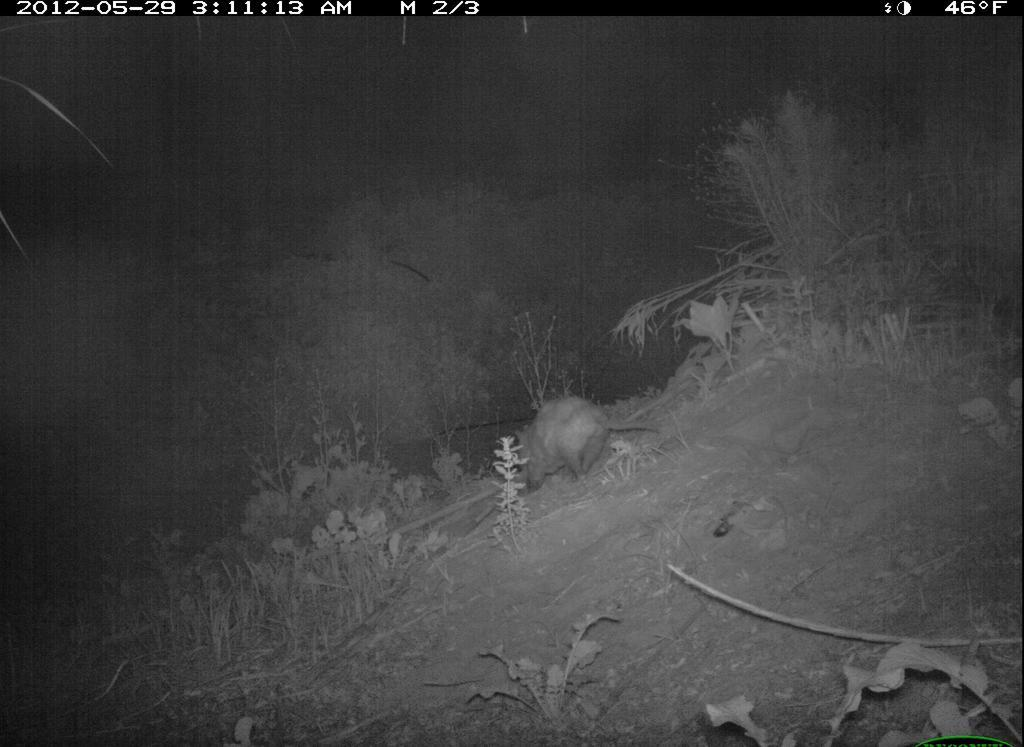opossum: (515, 395, 660, 497)
